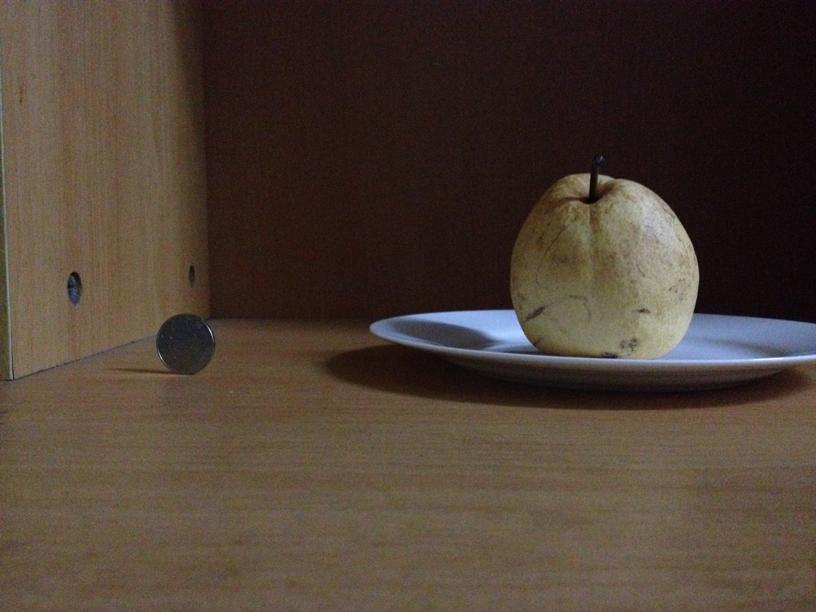coin: (153, 312, 216, 374)
pear: (507, 166, 701, 356)
